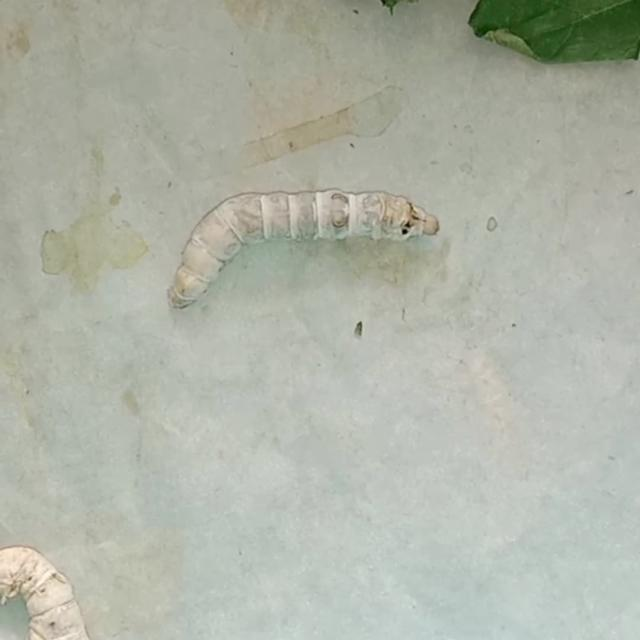Grasserie: (160, 158, 446, 326)
